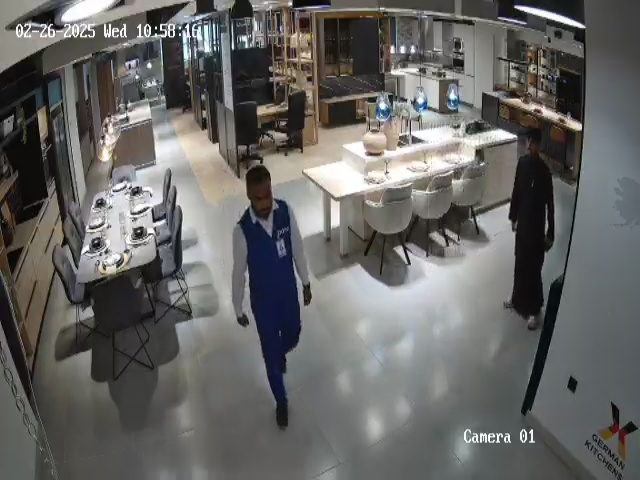employee: (231, 165, 313, 431)
male: (504, 130, 555, 331)
